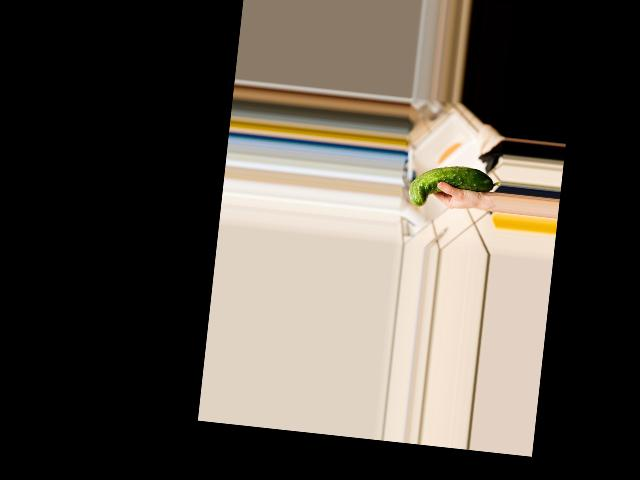cucumber: (407, 160, 501, 214)
